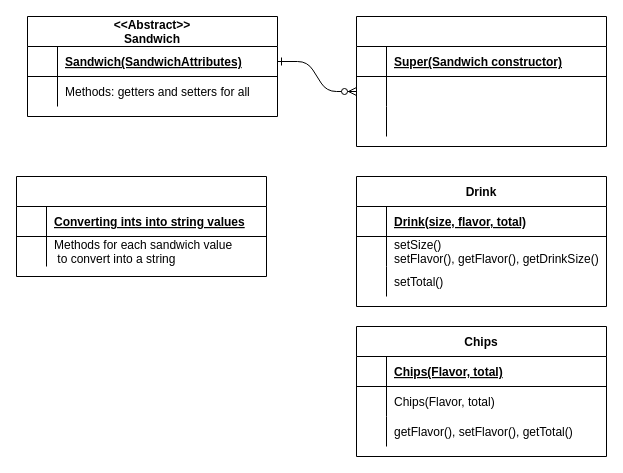
Image size: 623x473. Some labels were removed from this diagram. The shapes that lost their labels are listed below. From the top down, each one's box as (x1, y1, x2, y2) in pixels, then its label:
(356, 16, 606, 146): Sandwich Builder
(16, 176, 266, 276): Converter
